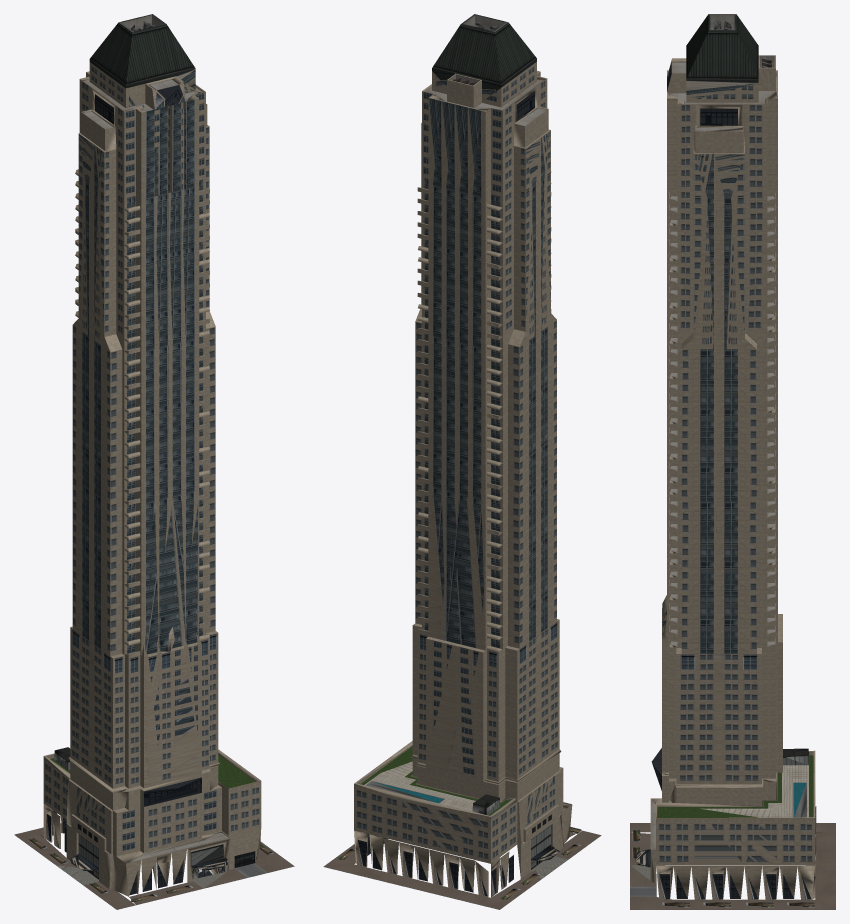
The model's file is thap-cao.glb.
3 renders of one model, left to right at view 1: azimuth 30°, elevation 25°; view 2: azimuth 150°, elevation 25°; view 3: azimuth 270°, elevation 25°, orthographic.
Parts seen in each view (by area): view 1: hirise13_Material #26_0; view 2: hirise13_Material #26_0; view 3: hirise13_Material #26_0.
Boxes of the visible parts, x1,y1,x2,y2 form: hirise13_Material #26_0: (14,14,294,909); hirise13_Material #26_0: (323,14,601,909); hirise13_Material #26_0: (630,14,835,909).
Bounding box in the file's own units: 0.2158 × 0.9677 × 0.2158.
Materials: 1 (1 with a texture image).
